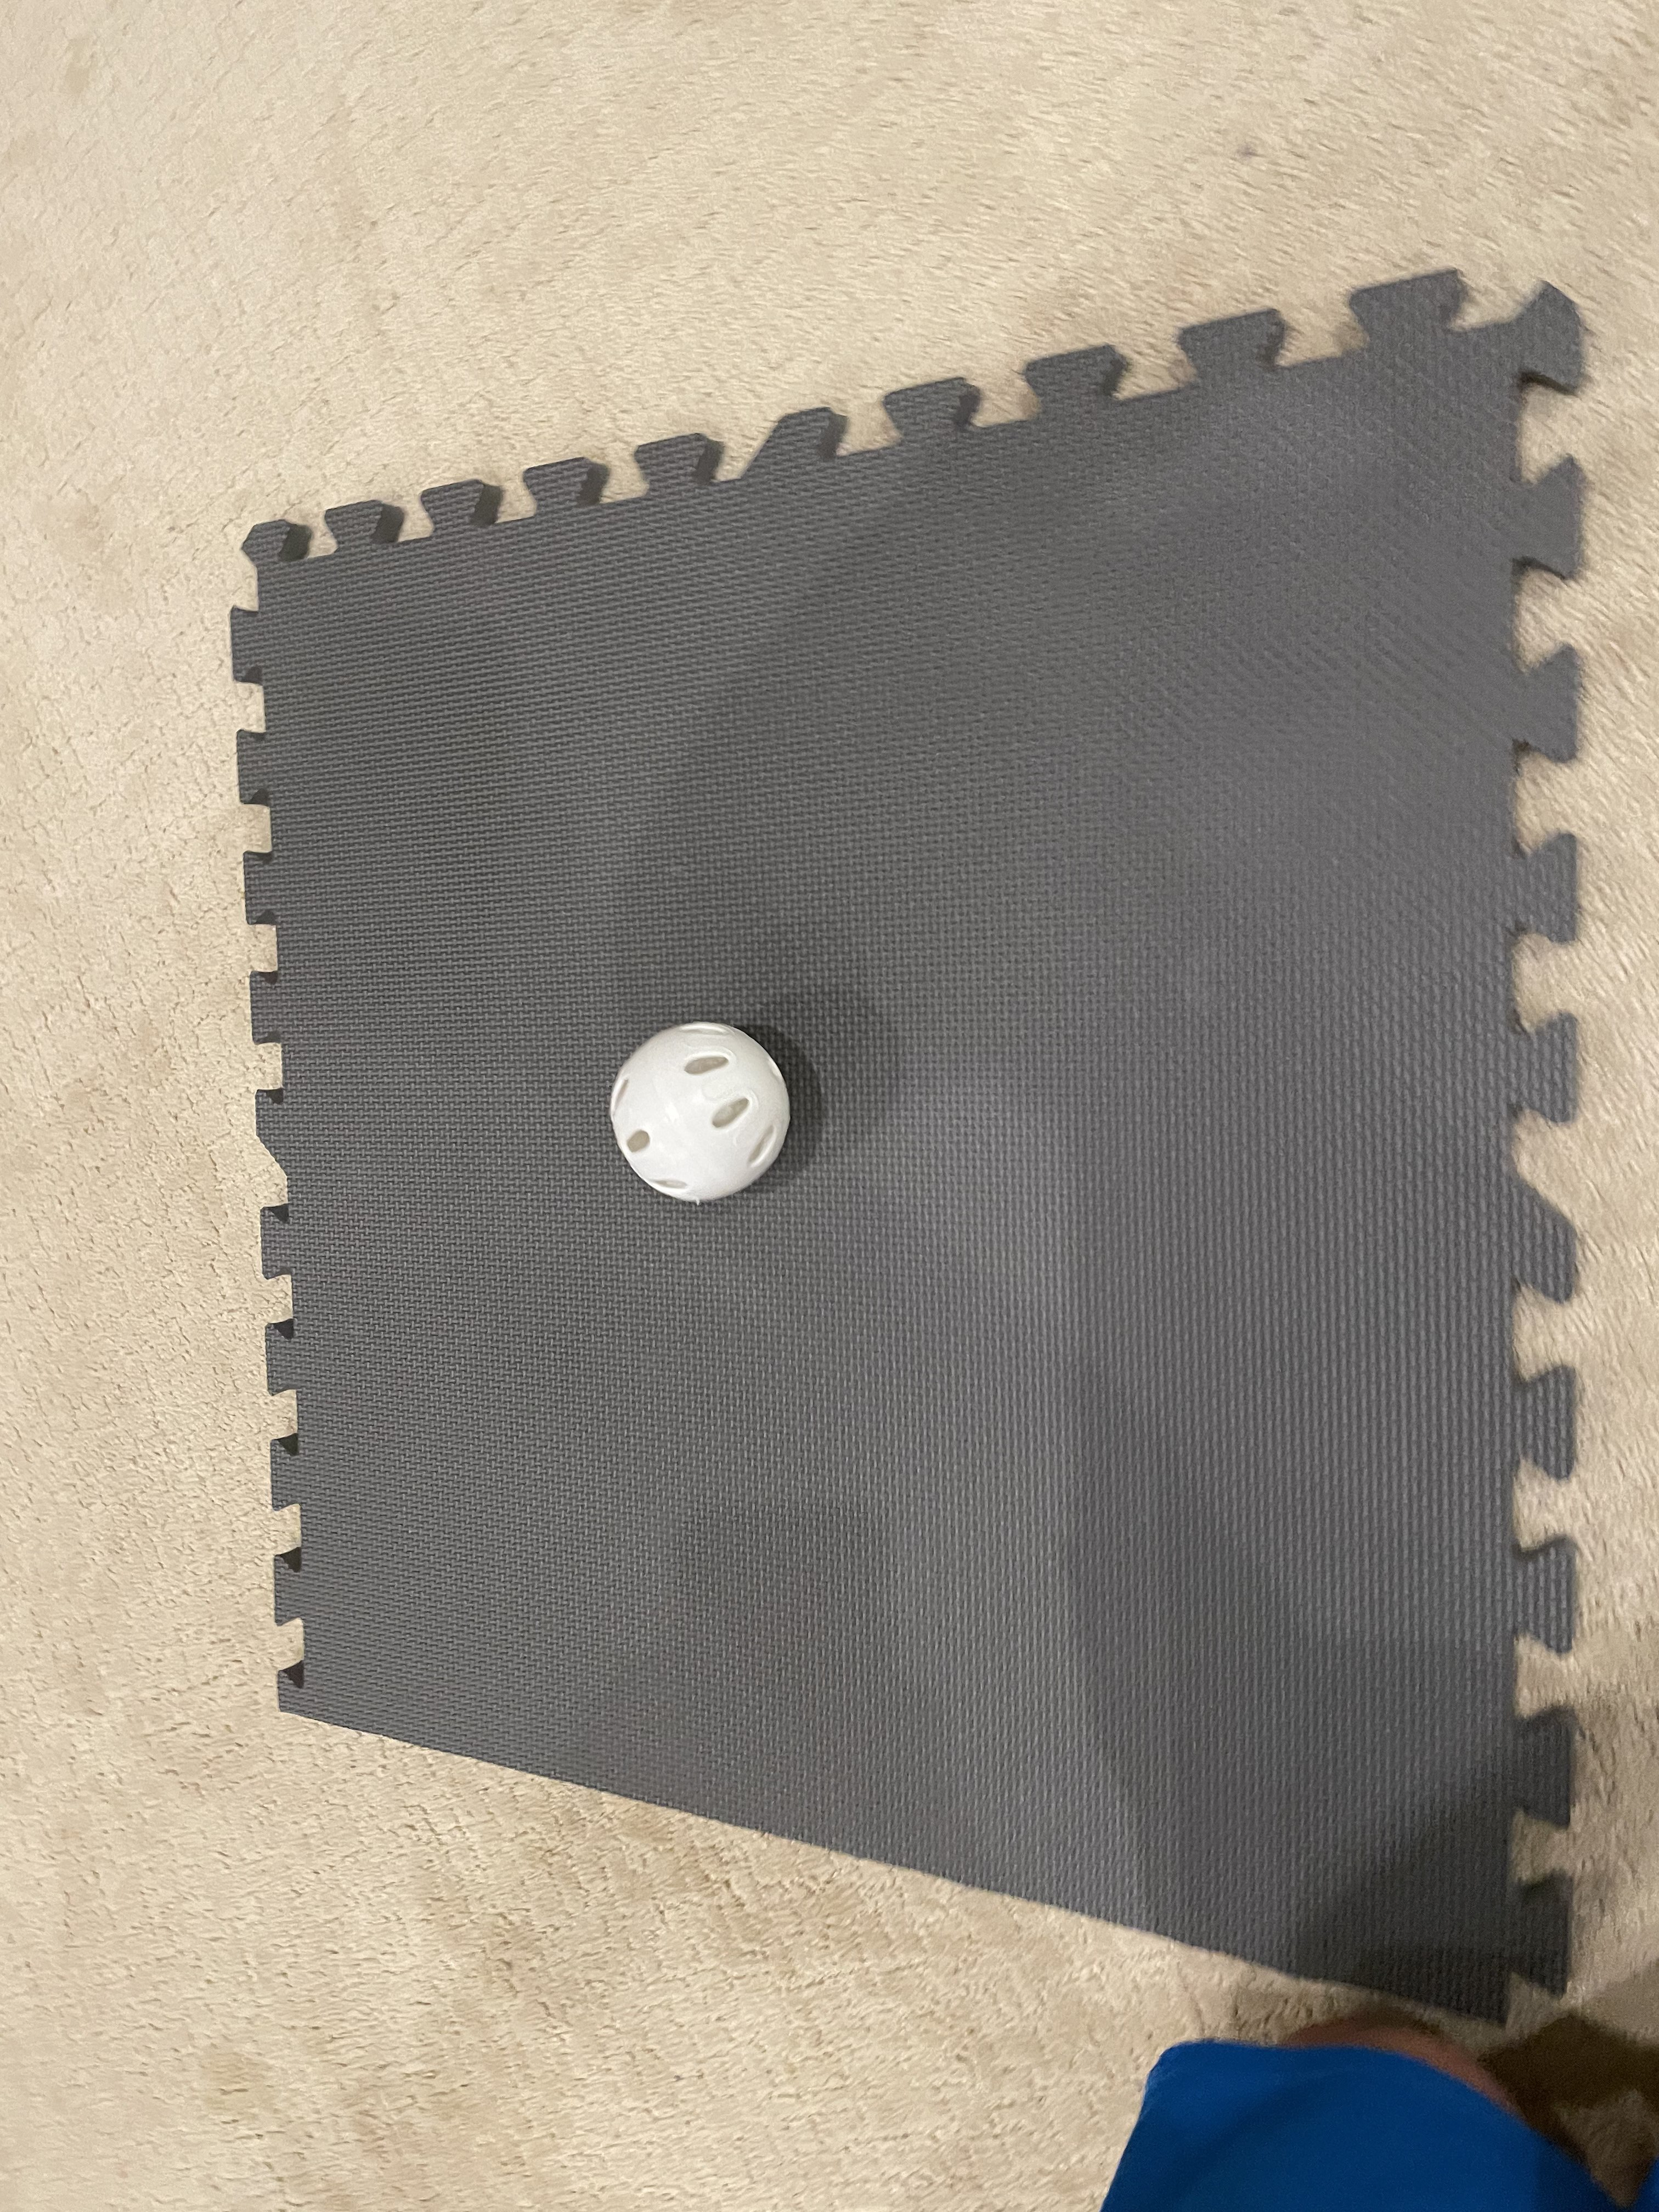ball: (591, 975, 831, 1216)
